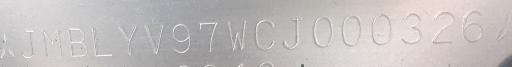letter: (429, 9, 455, 46), (460, 9, 484, 44), (369, 12, 393, 47), (89, 24, 113, 59), (310, 15, 334, 48), (252, 18, 276, 51), (40, 25, 64, 58), (340, 13, 362, 48), (281, 15, 303, 50), (170, 20, 192, 55), (116, 22, 138, 57), (400, 12, 422, 45), (142, 21, 164, 54), (66, 25, 88, 58), (16, 26, 38, 59), (198, 19, 218, 54), (226, 19, 246, 52)
